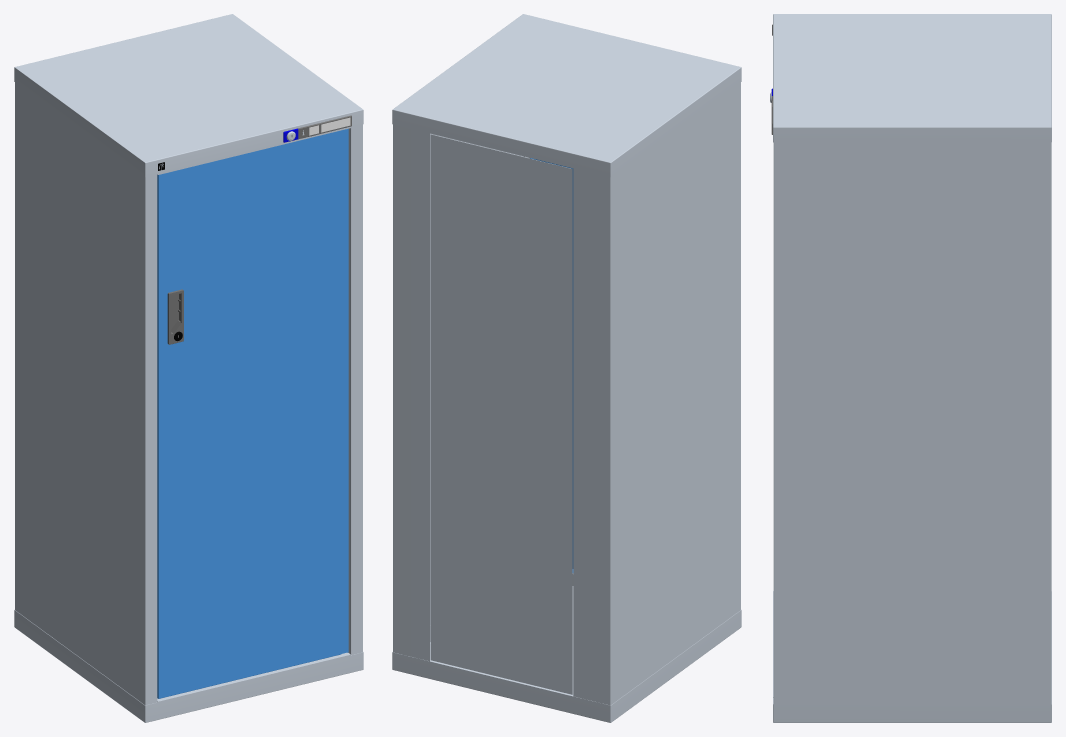
The picture shows the model from 3 angles, left to right: view 1: azimuth 30°, elevation 25°; view 2: azimuth 150°, elevation 25°; view 3: azimuth 270°, elevation 25°; orthographic projection. The views are drawn at different scales.
Parts seen in each view (by area): view 1: pPlane6, pPlane24, pPlane3, pPlane2, pPlane23, pPlane20; view 2: pPlane24, pPlane4, pPlane3, pPlane2, pPlane23, pPlane6; view 3: pPlane2, pPlane3, pPlane23.
Part boxes in pixels (x1,y1,x2,y2): pPlane6: [157, 128, 348, 698]; pPlane24: [15, 82, 157, 705]; pPlane3: [14, 14, 363, 177]; pPlane2: [348, 124, 362, 654]; pPlane23: [14, 609, 363, 722]; pPlane20: [167, 289, 183, 344]; pPlane24: [573, 82, 740, 705]; pPlane4: [430, 134, 572, 694]; pPlane3: [392, 14, 741, 177]; pPlane2: [393, 124, 529, 661]; pPlane23: [392, 573, 741, 722]; pPlane6: [530, 158, 573, 572]; pPlane2: [773, 142, 1051, 704]; pPlane3: [773, 14, 1051, 142]; pPlane23: [773, 591, 1051, 722].
Bounding box in the file's own units: 0.5776 × 1.42 × 0.6059.
